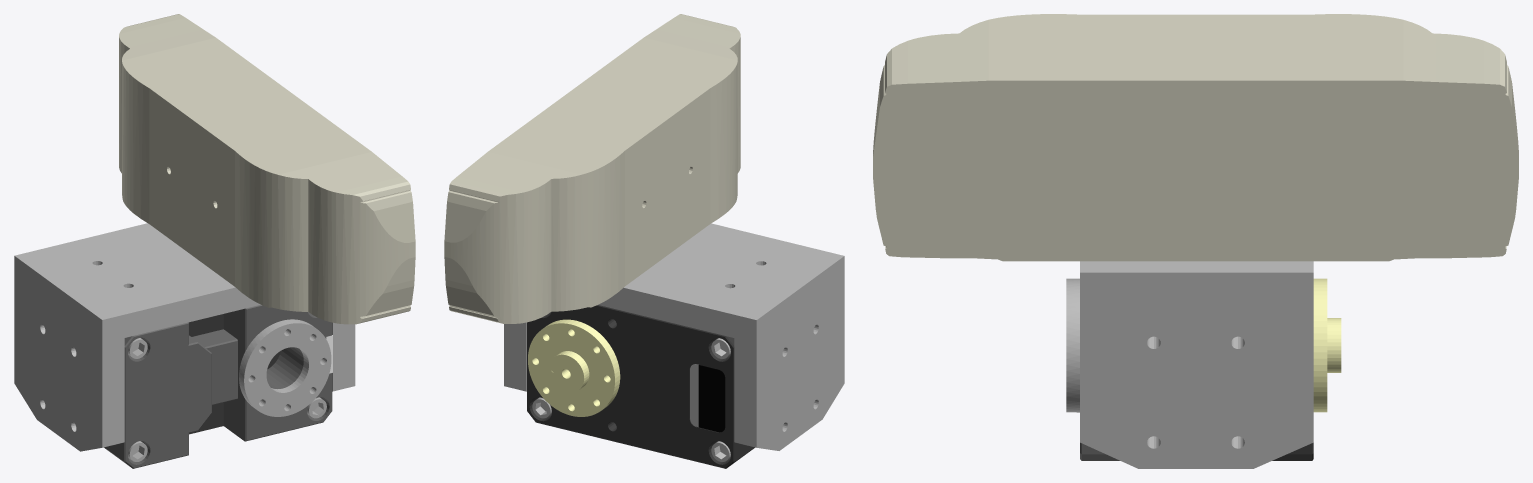
Rendered from Head.obj.
3 renders of one model, left to right at view 1: azimuth 30°, elevation 25°; view 2: azimuth 150°, elevation 25°; view 3: azimuth 270°, elevation 25°, orthographic. The views are drawn at different scales.
Size of the model in its own units: 5.65 by 6.25 by 9.4.
